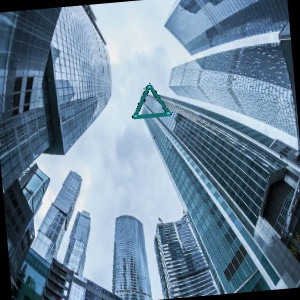triangle: (130, 82, 173, 121)
